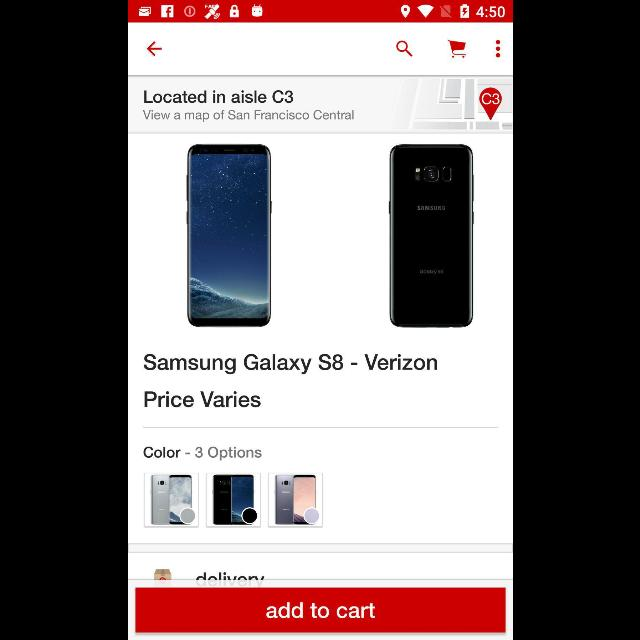icon: (446, 40, 466, 58), (396, 41, 412, 58), (146, 42, 162, 56), (494, 40, 500, 58)
image: (388, 144, 474, 328), (186, 144, 270, 328), (268, 472, 322, 528), (206, 472, 260, 528), (144, 472, 198, 528), (153, 568, 171, 580)
text: (144, 354, 436, 374), (142, 110, 354, 122), (144, 390, 260, 408), (144, 90, 292, 104), (143, 447, 261, 461)
textbutton: (135, 588, 505, 632)
toolbar: (128, 24, 512, 74)
uppertaskbar: (128, 1, 512, 23)
